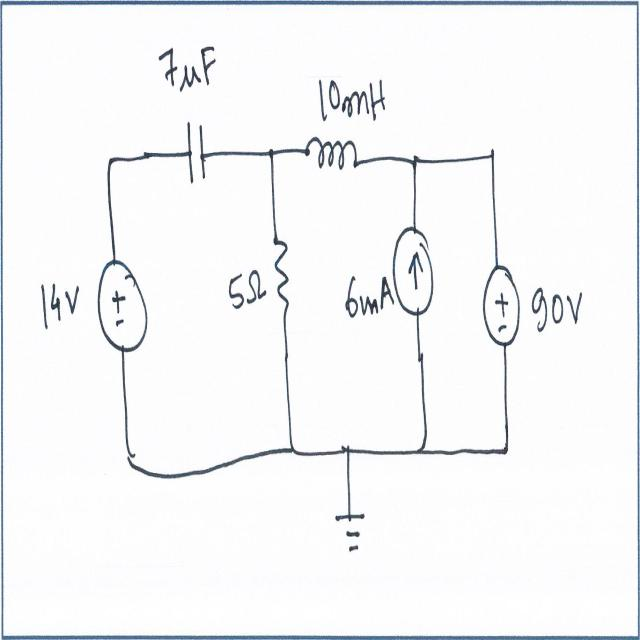capacitor: (186, 118, 208, 187)
current_source: (393, 224, 437, 319)
ground: (334, 501, 371, 558)
inductor: (304, 128, 360, 175)
resistor: (272, 232, 291, 324)
voltage_source: (97, 259, 152, 357), (482, 266, 523, 347)
